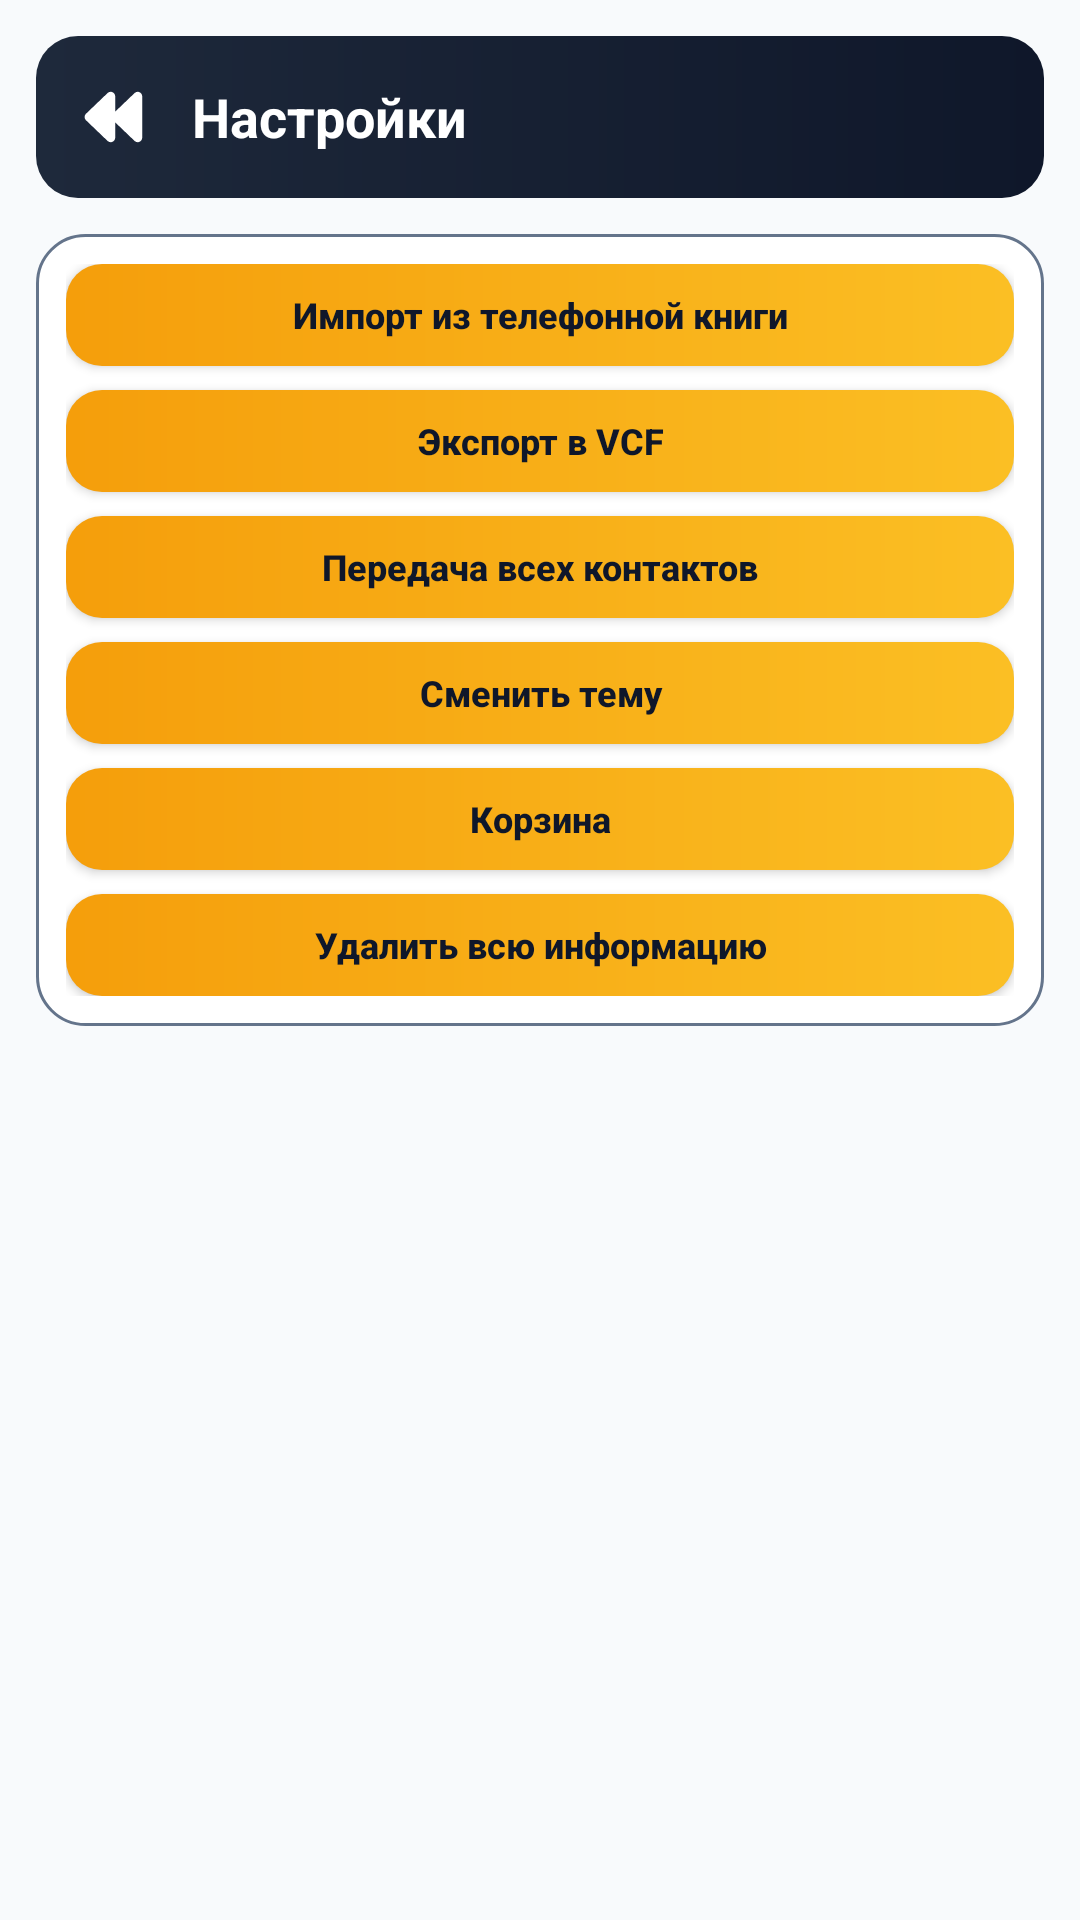

Icons on this 1080x1920 Android screen, each with its box as (x1, y1, x2, y2):
backward: (84, 91, 143, 143)
